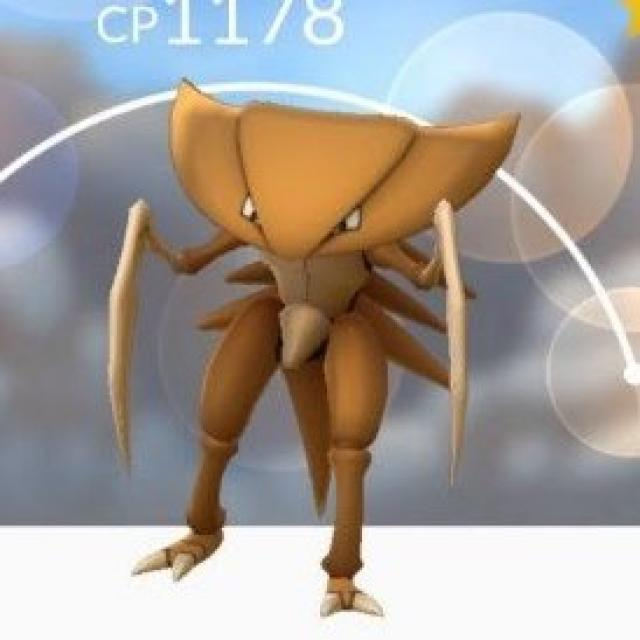Kabutops: (109, 93, 523, 583)
